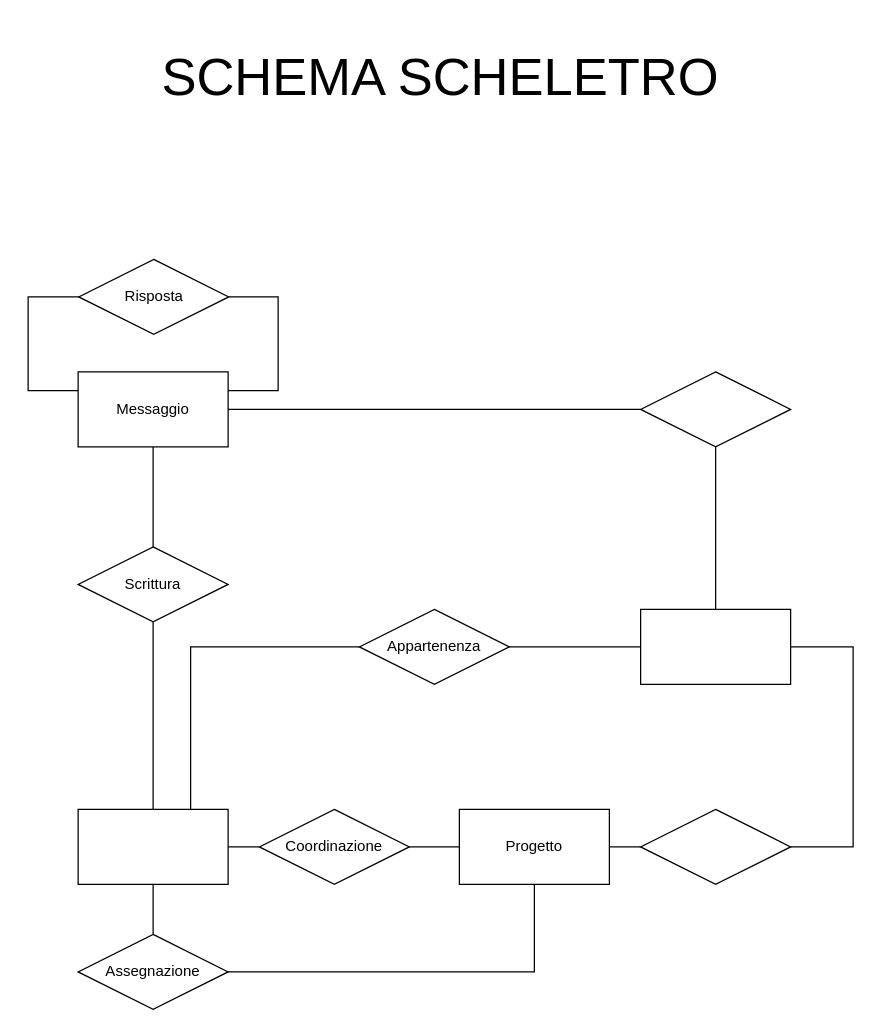
Image size: 880x1031. Some labels were removed from this diagram. Each missing label, with the box of its shape:
Canale di comunicazione: (639, 608, 791, 684)
Destinazione: (639, 371, 791, 447)
Lavoratore: (77, 808, 228, 884)
Riferimento: (639, 808, 791, 884)
